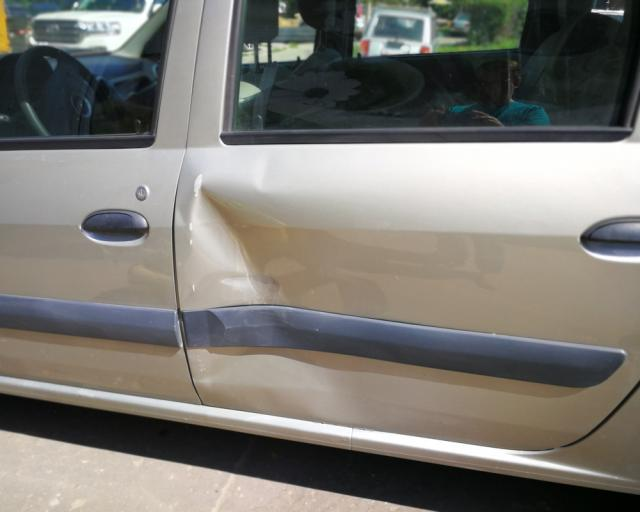dent: (183, 178, 399, 429), (252, 148, 285, 191)
